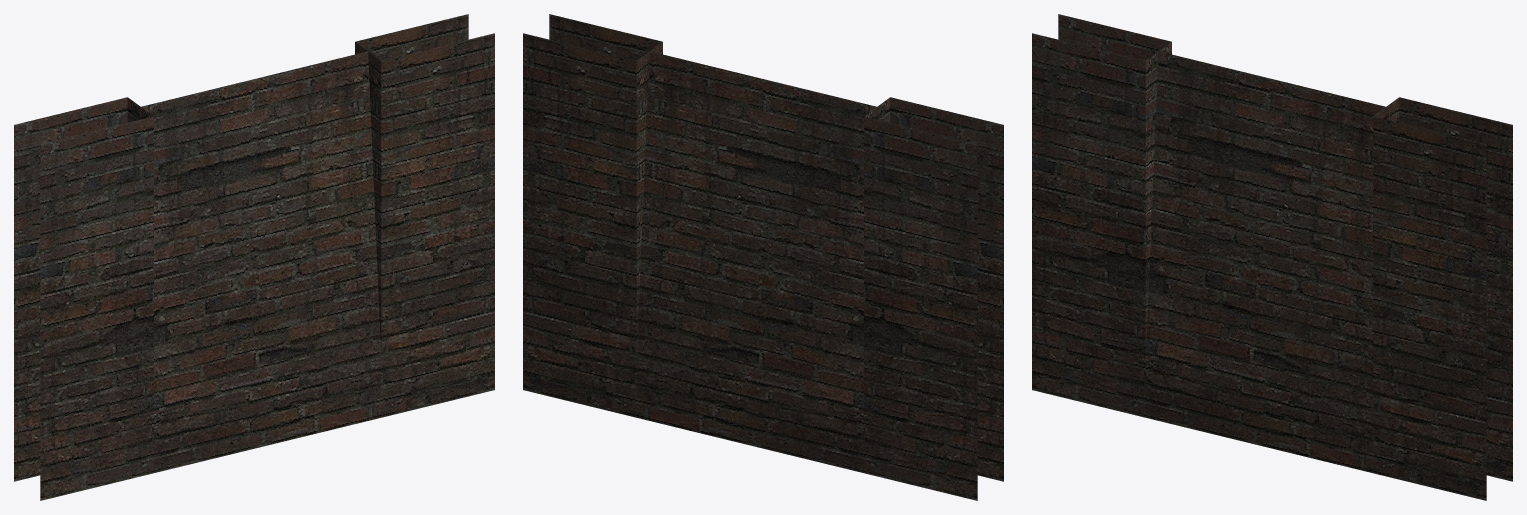
The model's file is wall_hs_1_t_1.glb.
3 views of the same model, side by side, from view 1: azimuth 30°, elevation 25°; view 2: azimuth 150°, elevation 25°; view 3: azimuth 330°, elevation 25° (orthographic).
Parts seen in each view (by area): view 1: wall_hs_1_t_1; view 2: wall_hs_1_t_1; view 3: wall_hs_1_t_1.
Part boxes in pixels (x1,y1,x2,y2): wall_hs_1_t_1: (14,14,494,500); wall_hs_1_t_1: (523,14,1003,500); wall_hs_1_t_1: (1032,14,1512,500).
Size of the model in its own units: 4 by 3 by 0.4.
1 material, 1 textured.
